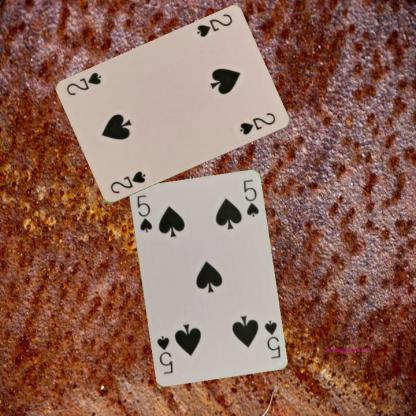2s: (107, 169, 147, 195), (194, 12, 234, 38)
5s: (262, 318, 281, 360), (134, 192, 153, 233)
